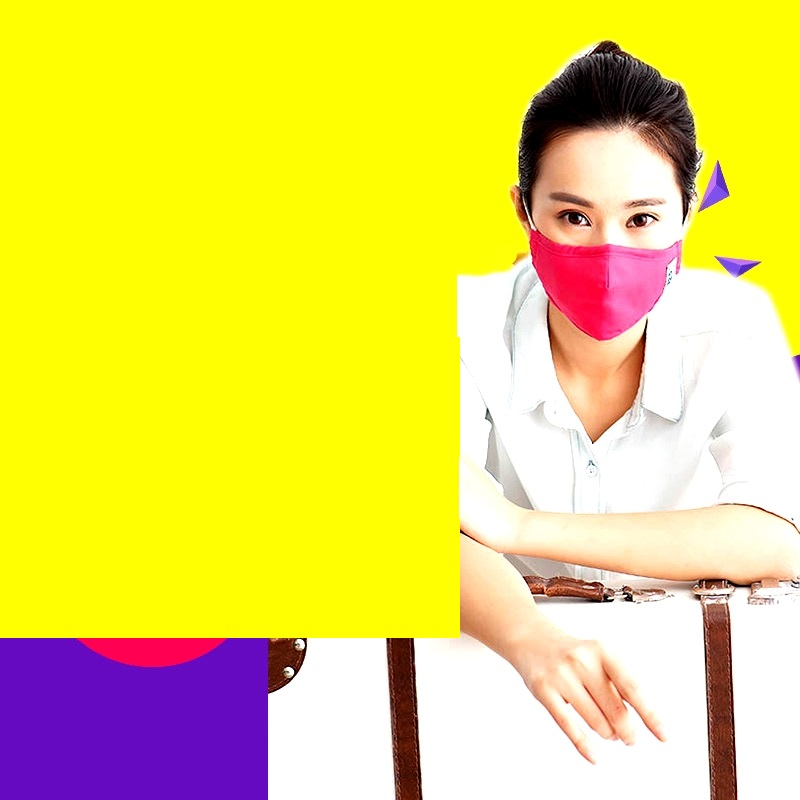face_mask: (528, 126, 680, 336)
